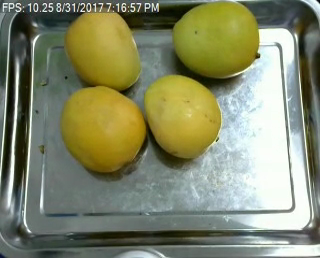Mango: (61, 86, 145, 172), (143, 74, 222, 160), (172, 1, 260, 78), (64, 6, 142, 89)
